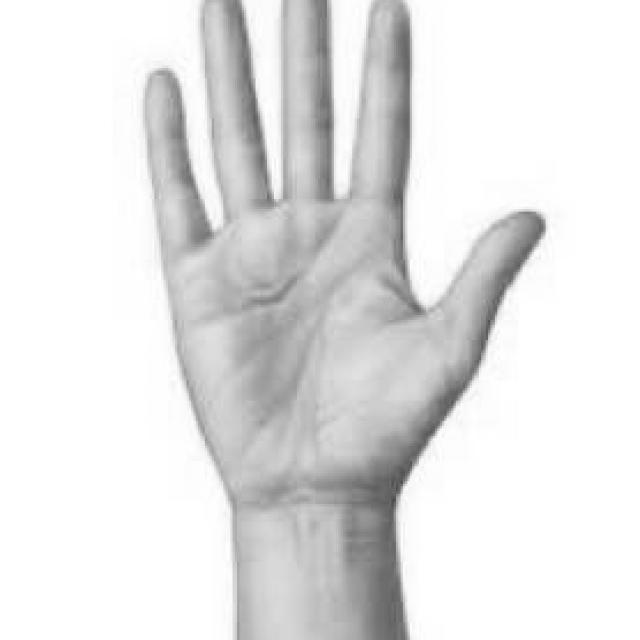stop: (134, 0, 550, 517)
